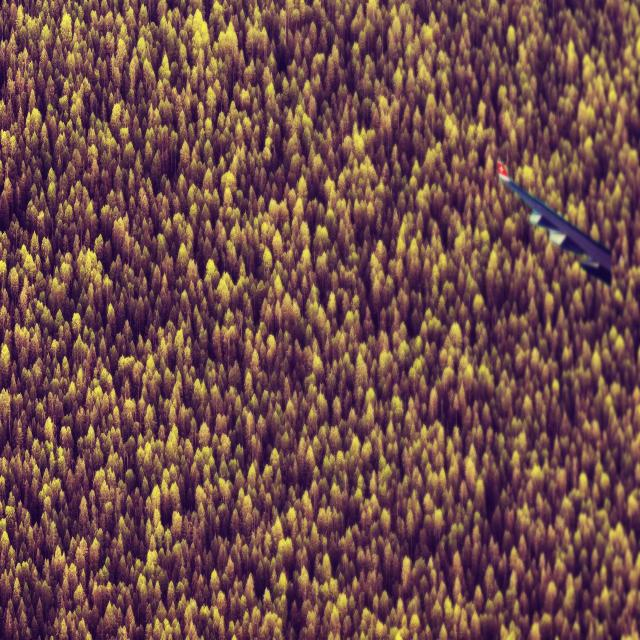airplane: (496, 160, 612, 286)
